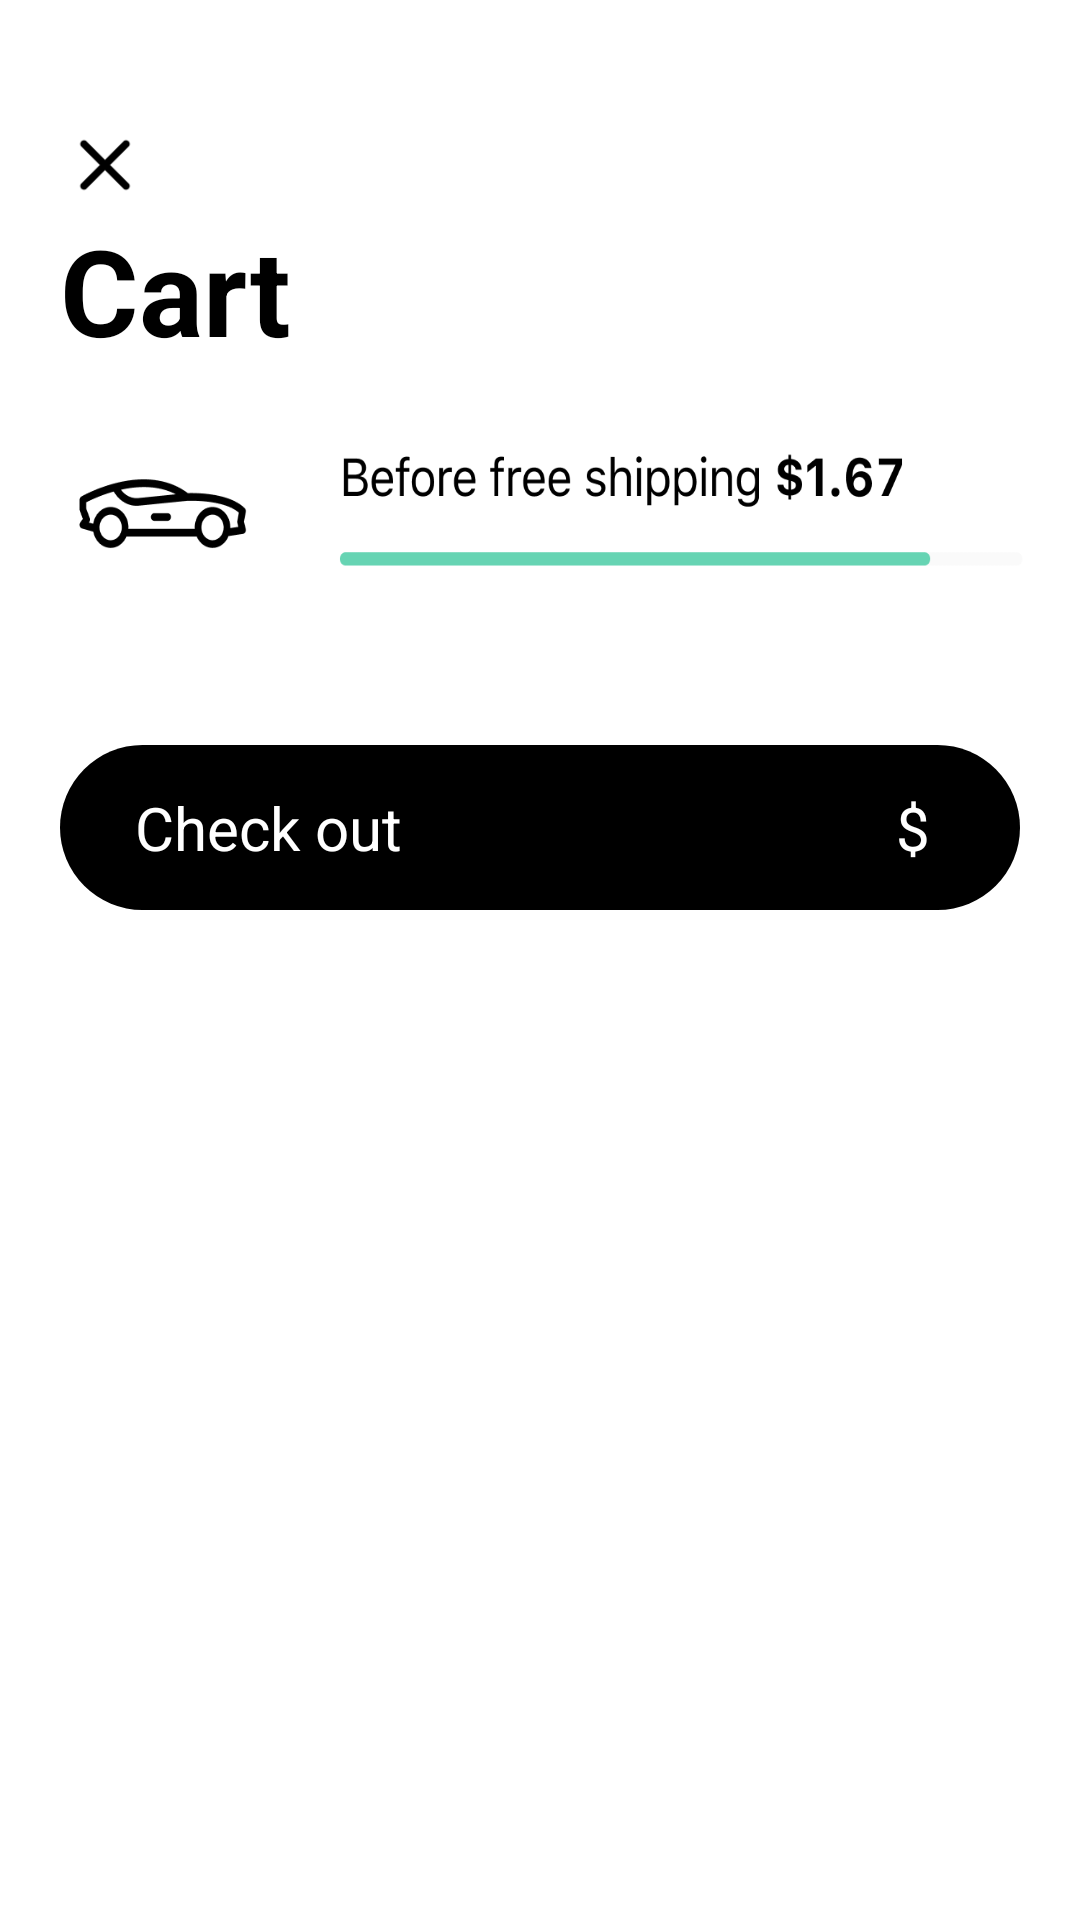

Point at icon controls on the screen. Image size 1080×1920, points as point (x, y).
xbutton: point (105, 165)
